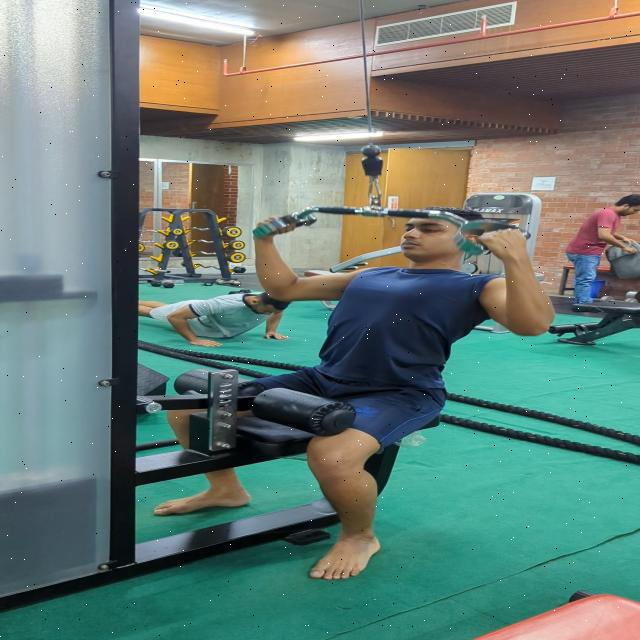Normal_LatPulldown: (148, 193, 557, 585)
